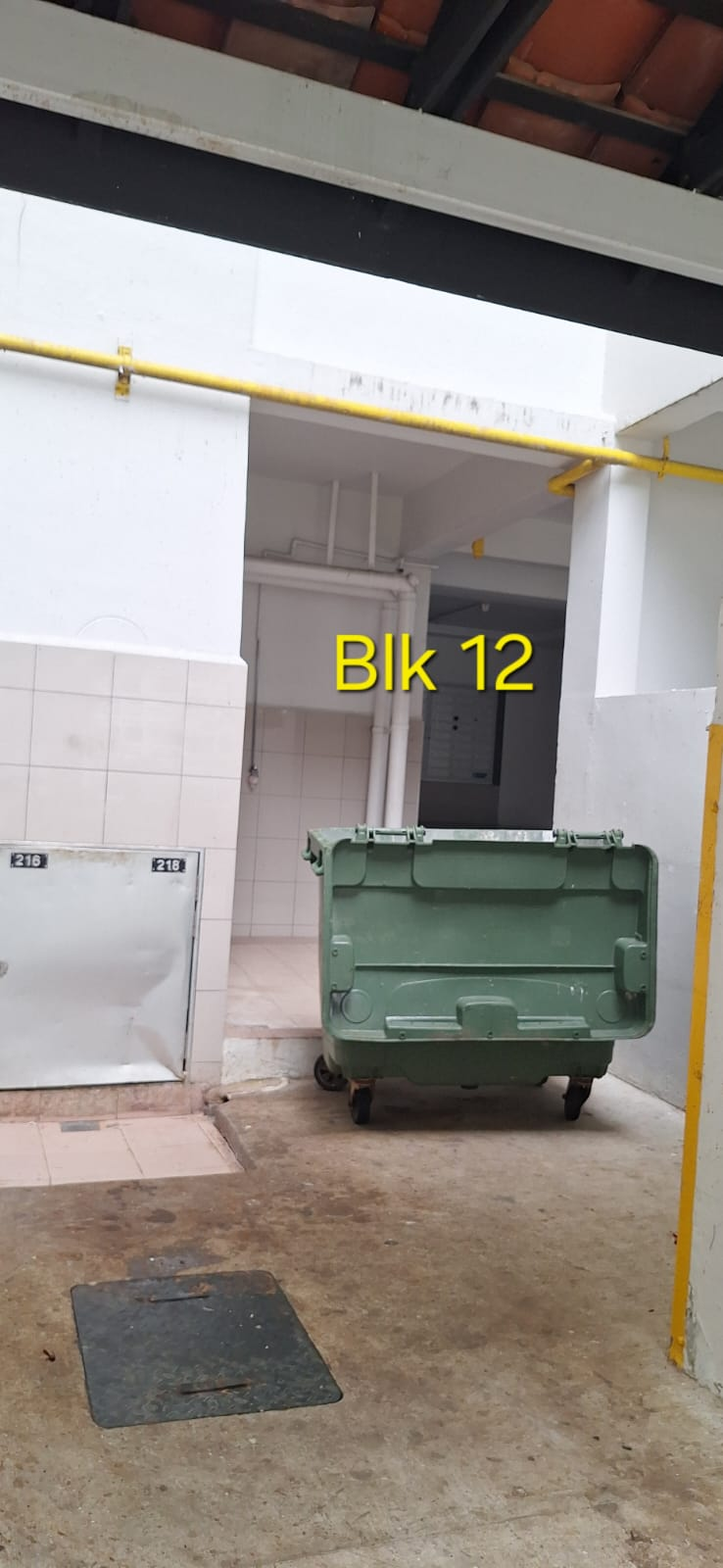bin_empty: (305, 825, 656, 1124)
